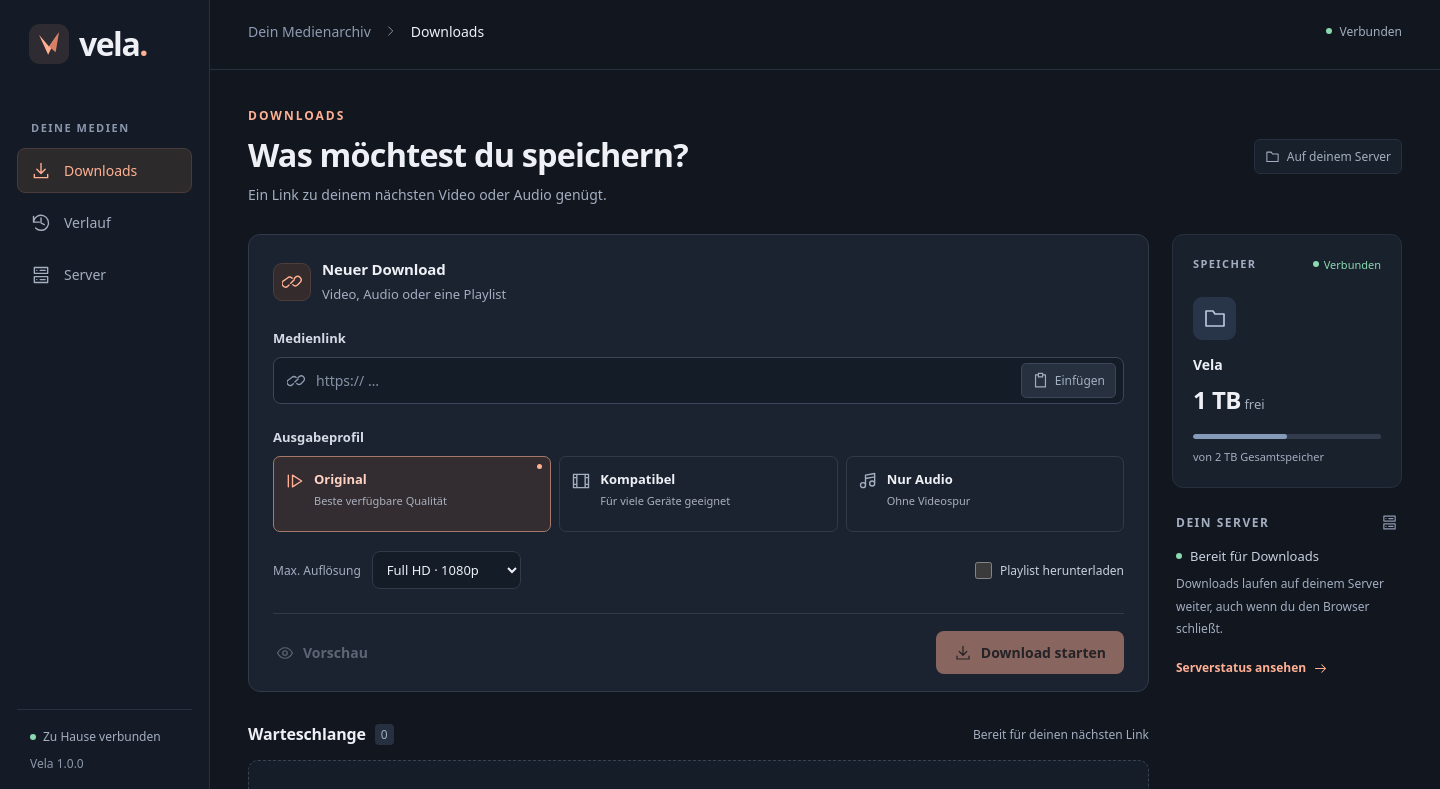
it: Vela-Arbeitsabläufe › aktualisiert auch einen älteren bereits geladenen aktiven Auftrag
This screenshot has width=1440, height=789.
Click the button "Verlauf".
click(104, 222)  # box [17, 200, 192, 245]
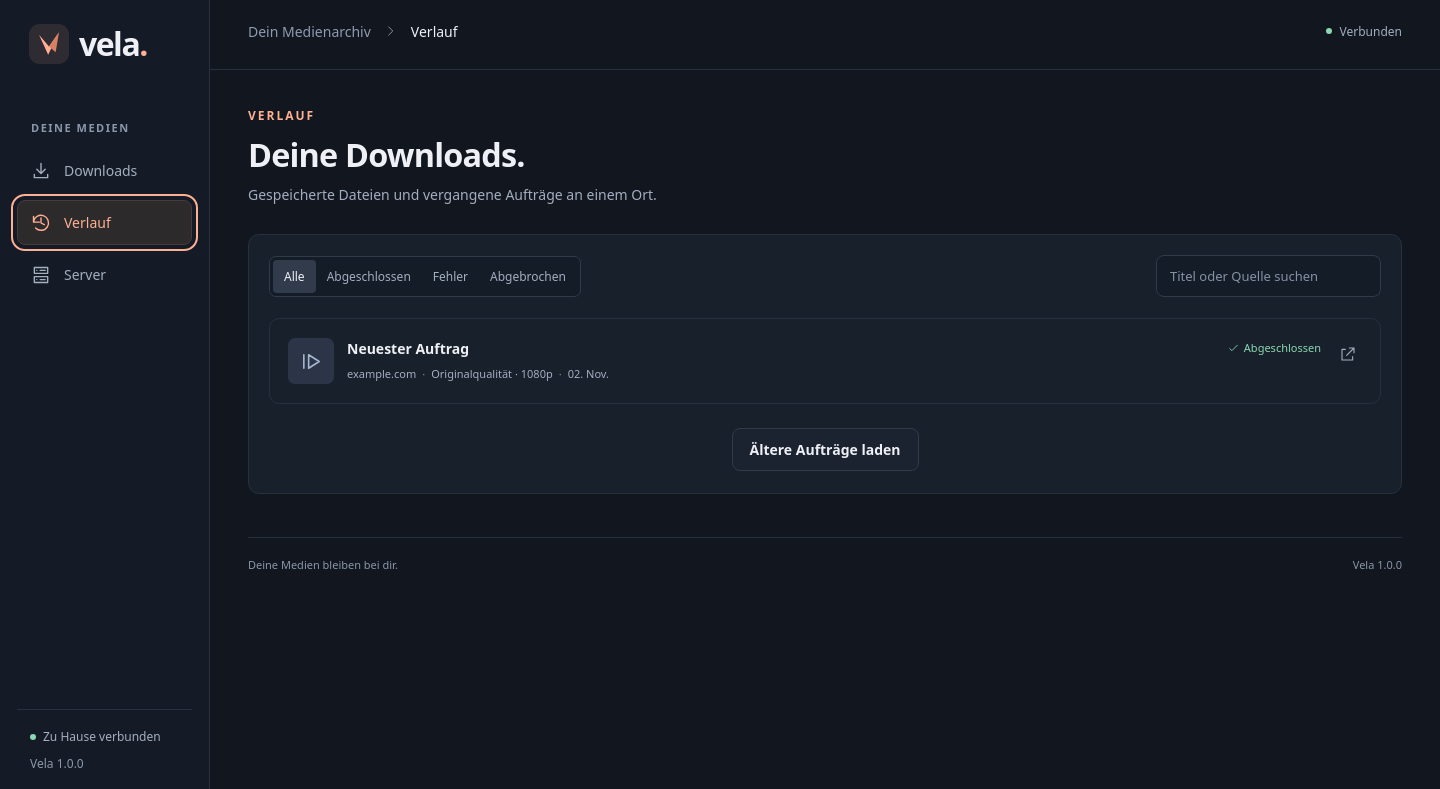
Click the button "Ältere Aufträge laden".
click(825, 450)  # box [732, 428, 918, 471]
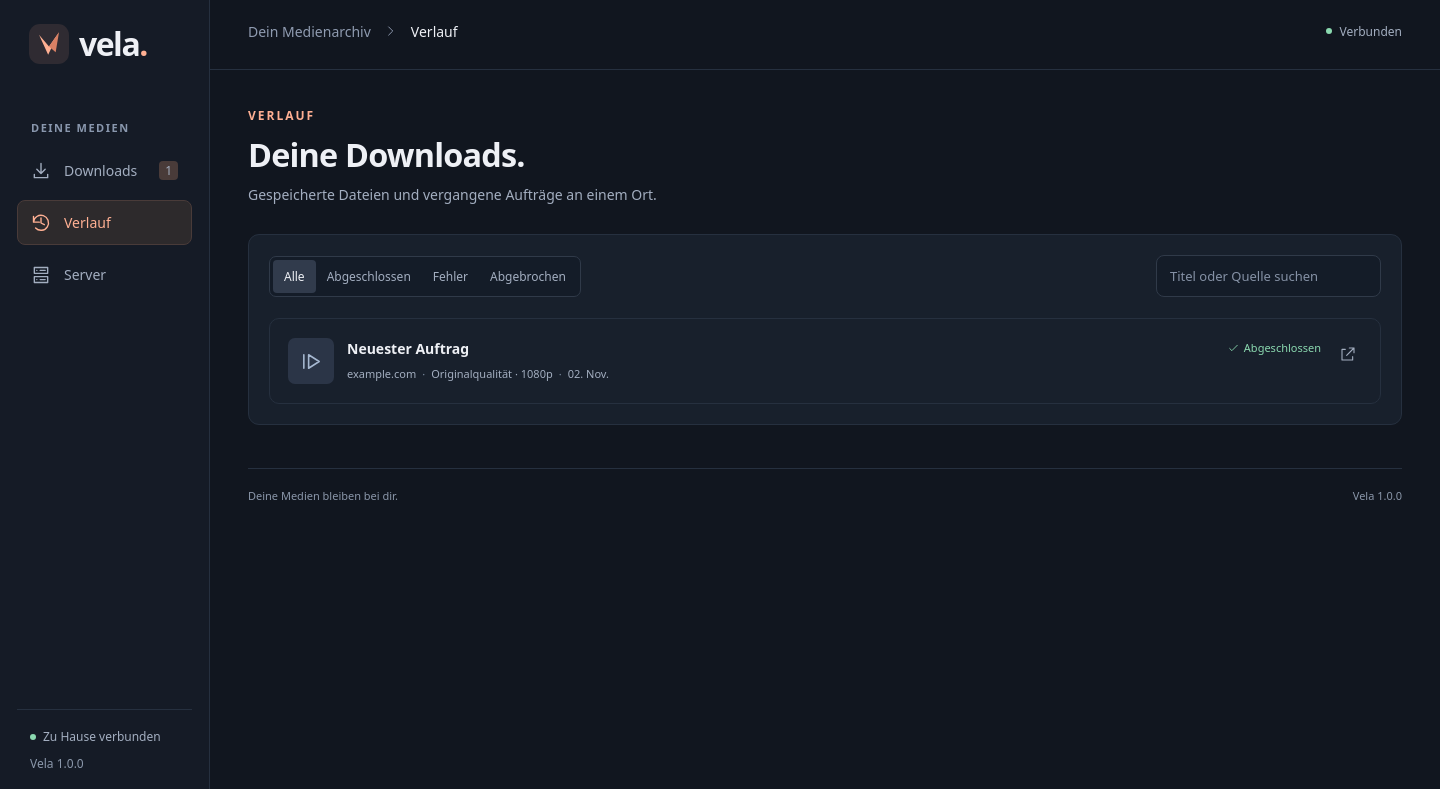
Click the button "Downloads 1".
click(104, 170)  # box [17, 148, 192, 193]
(page scrolled)
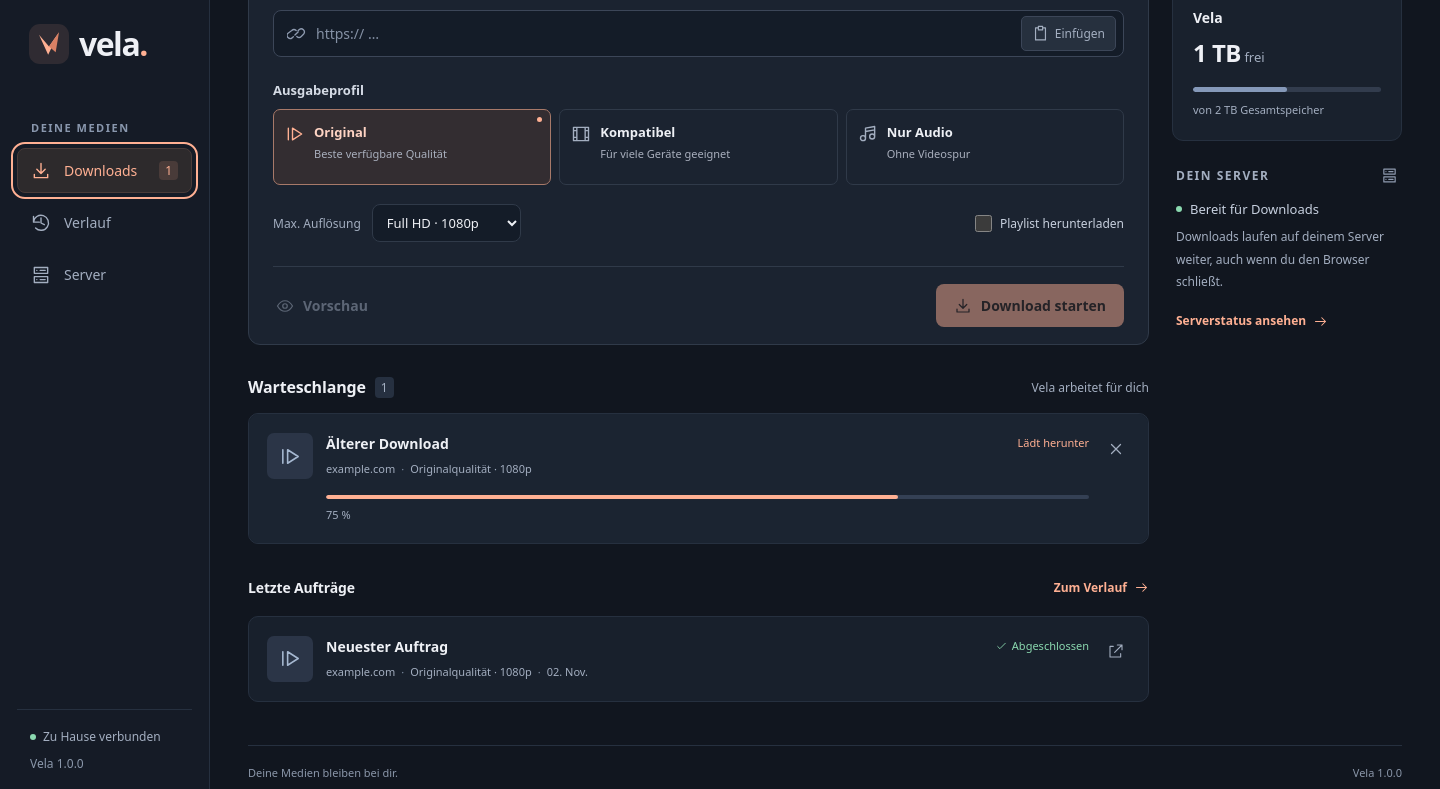
Expected: the heading "Älterer Download" is shown, [326, 433, 449, 454]
